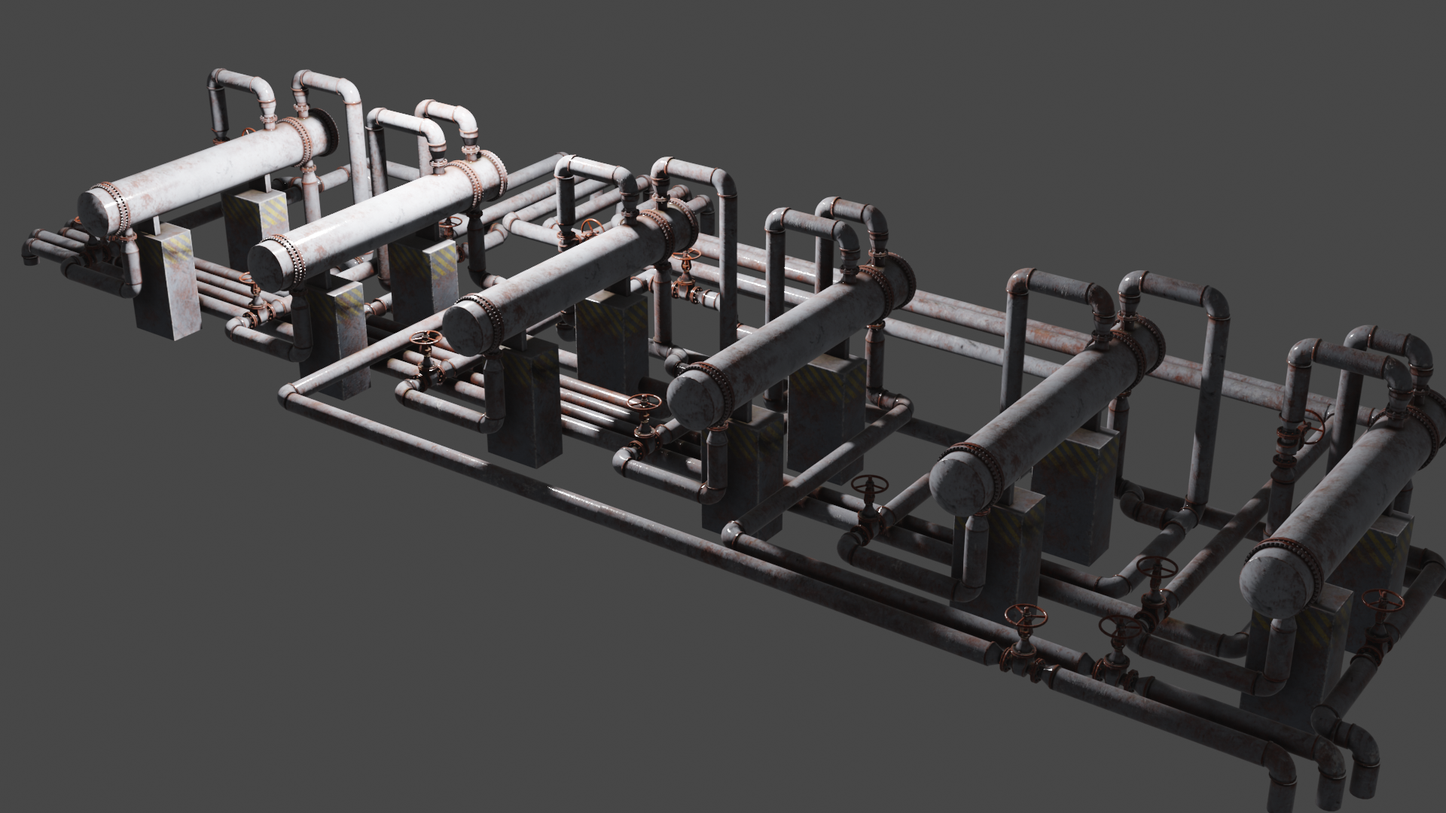HE_1: (1232, 386, 1446, 623)
HE_2: (923, 305, 1172, 522)
HE_3: (665, 243, 921, 433)
HE_4: (441, 192, 705, 355)
HE_5: (243, 145, 506, 290)
HE_6: (79, 110, 338, 242)
